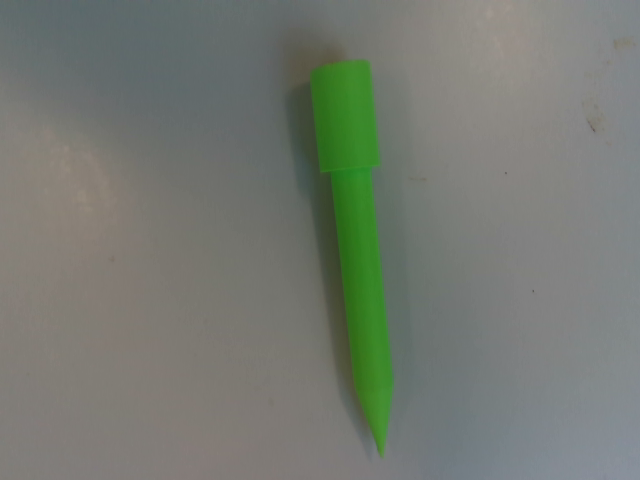Probe: (302, 50, 400, 462)
